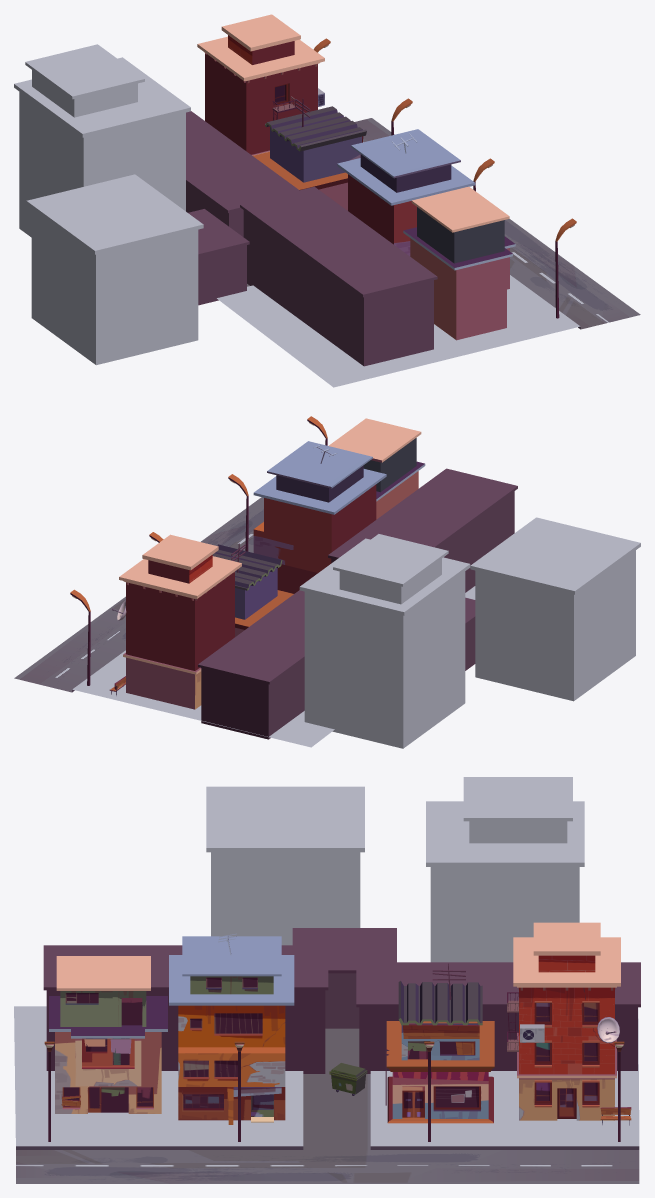
3 views of the same model, one above another, from view 1: azimuth 30°, elevation 25°; view 2: azimuth 150°, elevation 25°; view 3: azimuth 270°, elevation 25° (orthographic). The views are drawn at different scales.
Visible parts, largest first — view 1: Cube, Plane, 1.001_Bina1_0, 4.001_Bina4_0, 3.001_Bina3_0, 2.001_Bina2_0, Lights.001; view 2: Cube, 1.001_Bina1_0, 3.001_Bina3_0, Plane, 4.001_Bina4_0, 2.001_Bina2_0, Lights.001; view 3: Cube, Plane, 3.001_Bina3_0, 1.001_Bina1_0, 4.001_Bina4_0, 2.001_Bina2_0, Lights.001, Garbage.001.
Part boxes in pixels (left/top/right/bottom): Cube: left=14, top=44, right=437, bottom=366; Plane: left=217, top=118, right=640, bottom=387; 1.001_Bina1_0: left=197, top=14, right=324, bottom=155; 4.001_Bina4_0: left=403, top=186, right=515, bottom=340; 3.001_Bina3_0: left=337, top=129, right=475, bottom=256; 2.001_Bina2_0: left=253, top=98, right=366, bottom=210; Lights.001: left=313, top=38, right=576, bottom=318; Cube: left=198, top=468, right=640, bottom=748; 1.001_Bina1_0: left=112, top=534, right=241, bottom=709; 3.001_Bina3_0: left=253, top=441, right=386, bottom=593; Plane: left=14, top=497, right=475, bottom=747; 4.001_Bina4_0: left=328, top=418, right=425, bottom=519; 2.001_Bina2_0: left=212, top=543, right=293, bottom=636; Lights.001: left=70, top=416, right=327, bottom=685; Cube: left=43, top=777, right=640, bottom=1073; Plane: left=14, top=1006, right=639, bottom=1183; 3.001_Bina3_0: left=169, top=933, right=294, bottom=1124; 1.001_Bina1_0: left=507, top=922, right=620, bottom=1120; 4.001_Bina4_0: left=49, top=956, right=167, bottom=1113; 2.001_Bina2_0: left=385, top=963, right=494, bottom=1123; Lights.001: left=44, top=1041, right=624, bottom=1141; Garbage.001: left=329, top=1063, right=367, bottom=1095.
Size of the model in its own units: 6.49 by 2.25 by 6.56.
Materials: 6 (6 with a texture image).
